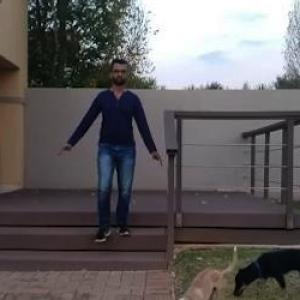land: (64, 62, 162, 246)
